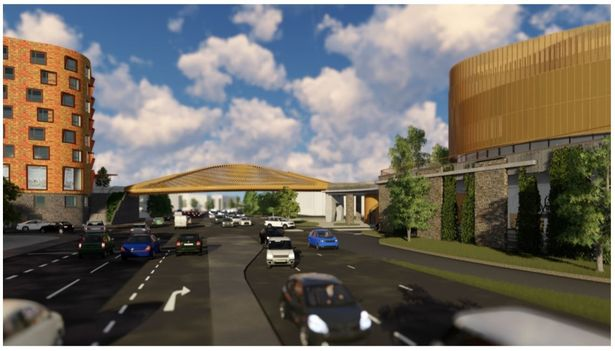bridge: (125, 162, 332, 206)
